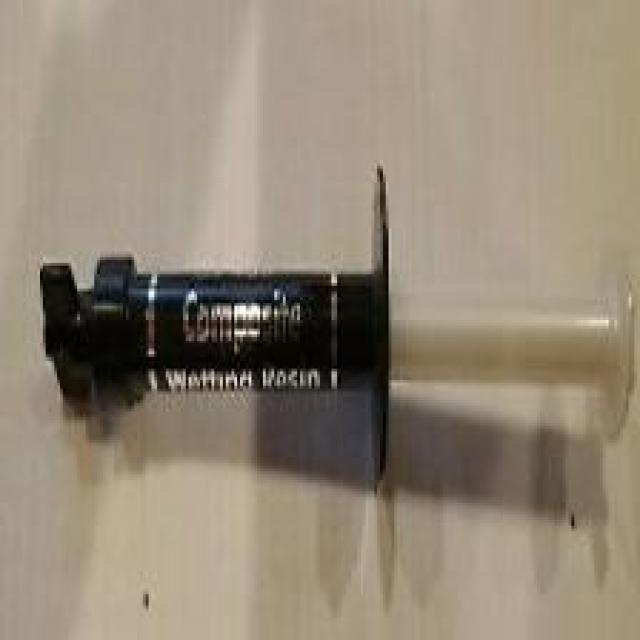syringe: (41, 231, 633, 468)
